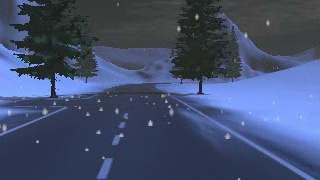Lane: (0, 84, 311, 179)
